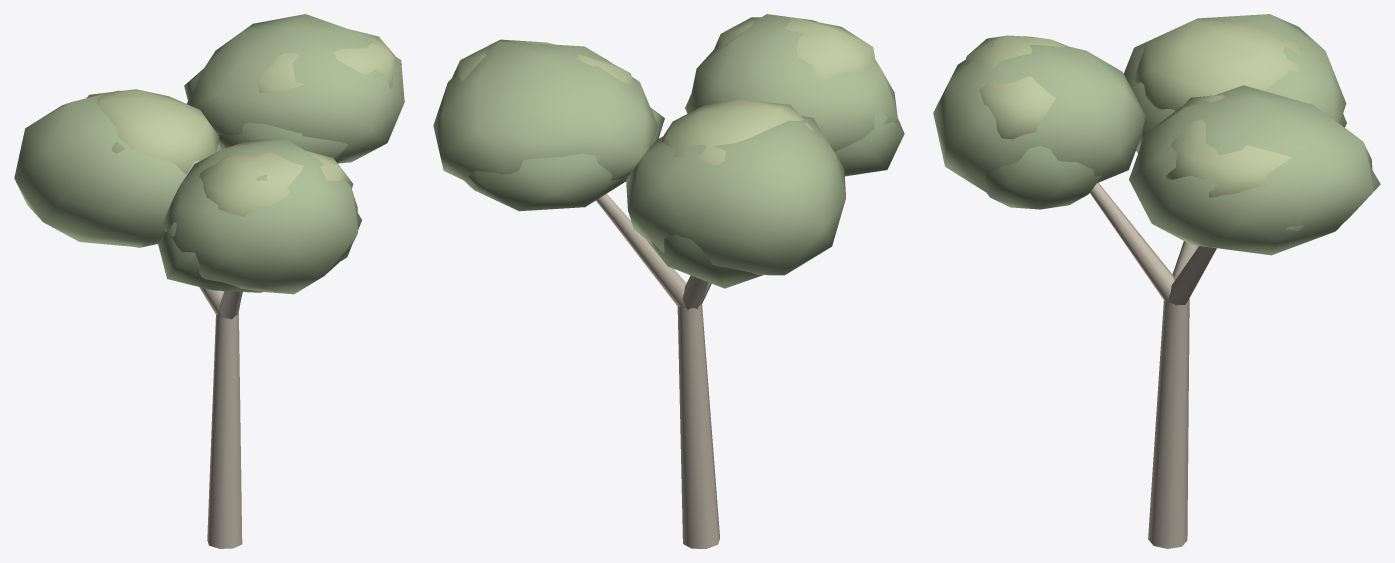
Rendered from tree_eucalyptus_3.glb.
3 views of the same model, side by side, from view 1: azimuth 30°, elevation 25°; view 2: azimuth 150°, elevation 25°; view 3: azimuth 270°, elevation 25° (orthographic). The views are drawn at different scales.
Parts seen in each view (by area): view 1: tree_eucalyptus_3.glb; view 2: tree_eucalyptus_3.glb; view 3: tree_eucalyptus_3.glb.
Boxes of the visible parts, box(x1,y1,x2,y2) form: tree_eucalyptus_3.glb: box(14, 14, 404, 548); tree_eucalyptus_3.glb: box(433, 14, 904, 548); tree_eucalyptus_3.glb: box(933, 14, 1380, 548).
Bounding box in the file's own units: 5.39 × 6.43 × 5.22.
